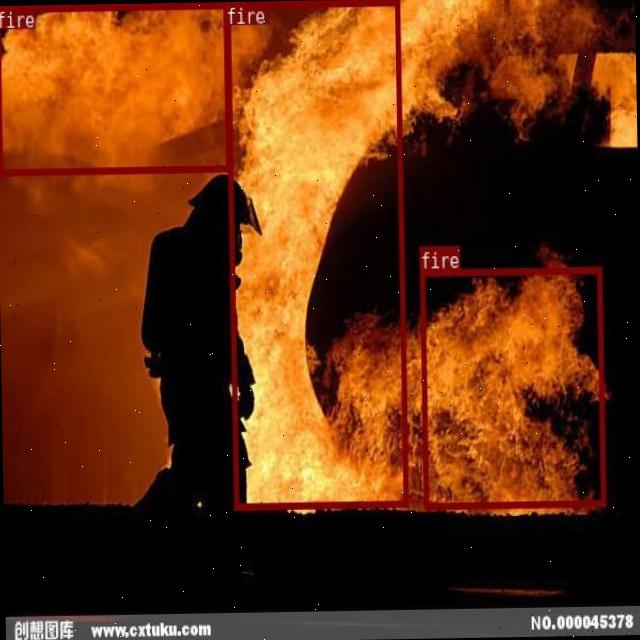fire: (224, 0, 408, 507), (418, 266, 604, 507), (0, 1, 230, 174)
